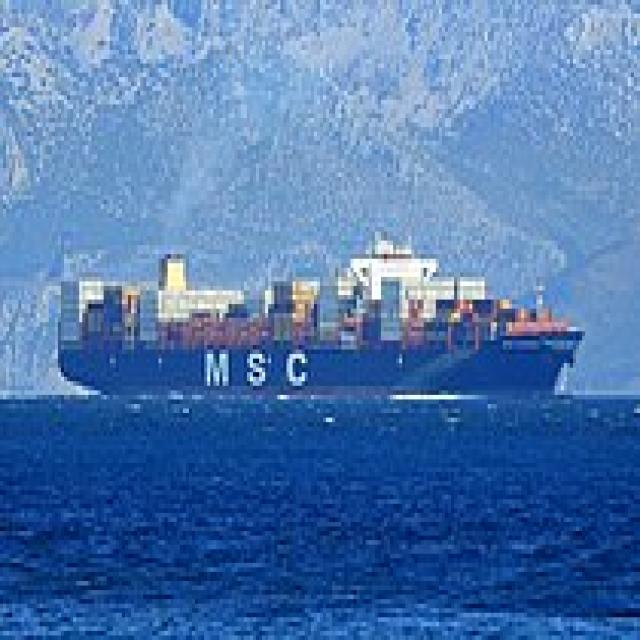Cargo: (52, 213, 582, 395)
